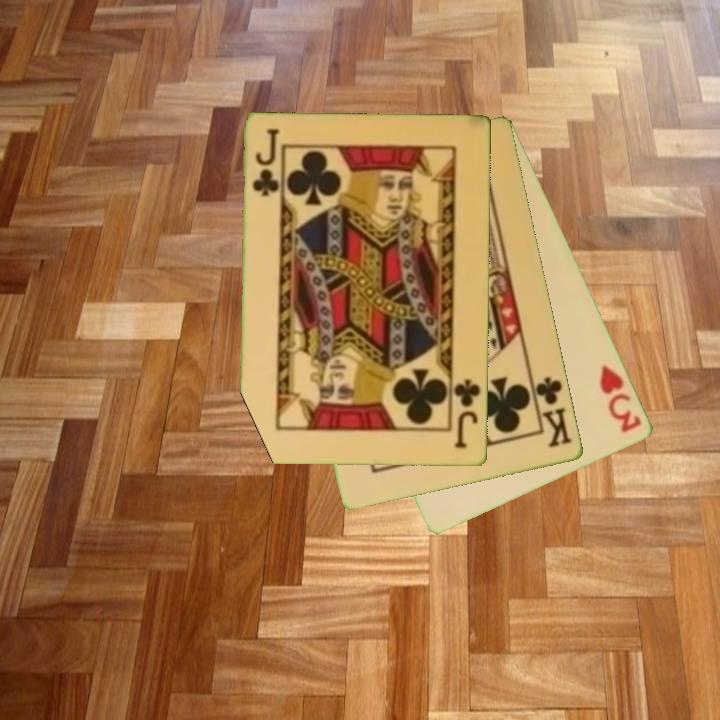3h: (596, 362, 645, 436)
Jc: (451, 376, 484, 452), (249, 126, 282, 200)
Kc: (528, 373, 575, 451)
